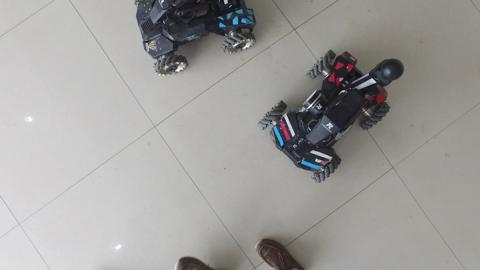chariot: (253, 44, 411, 196), (127, 1, 261, 82)
